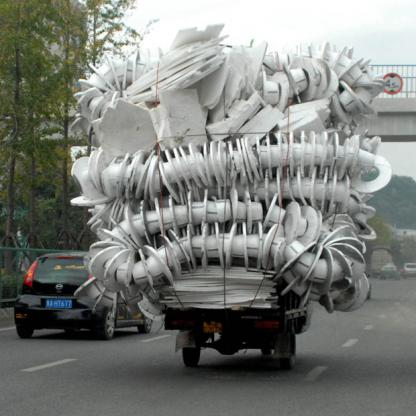overloaded-truck: (76, 22, 372, 378)
